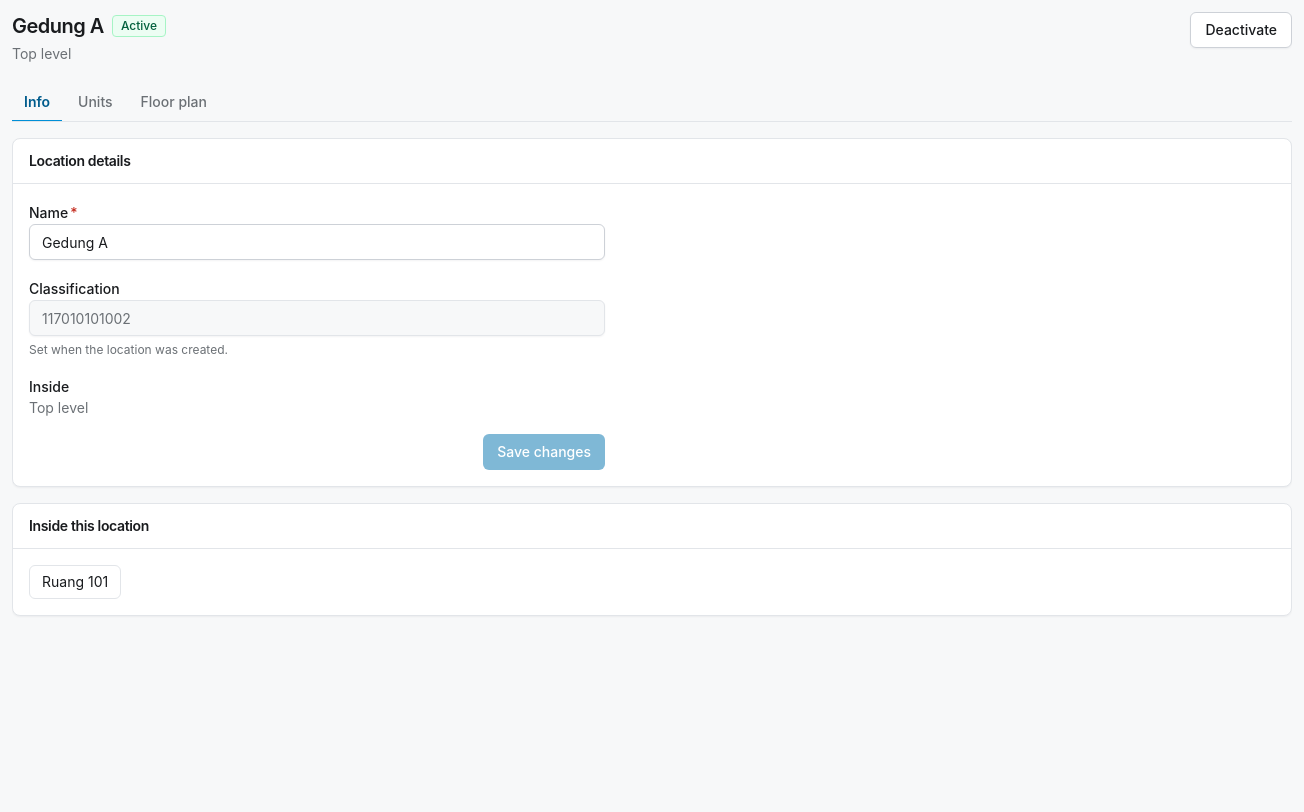
Test: LocationDetailPage › shows where each unit actually is, and marks it as inside rather than here
This screenshot has width=1304, height=812.
Click the tab "Units".
click(95, 103)  # box [66, 84, 125, 122]
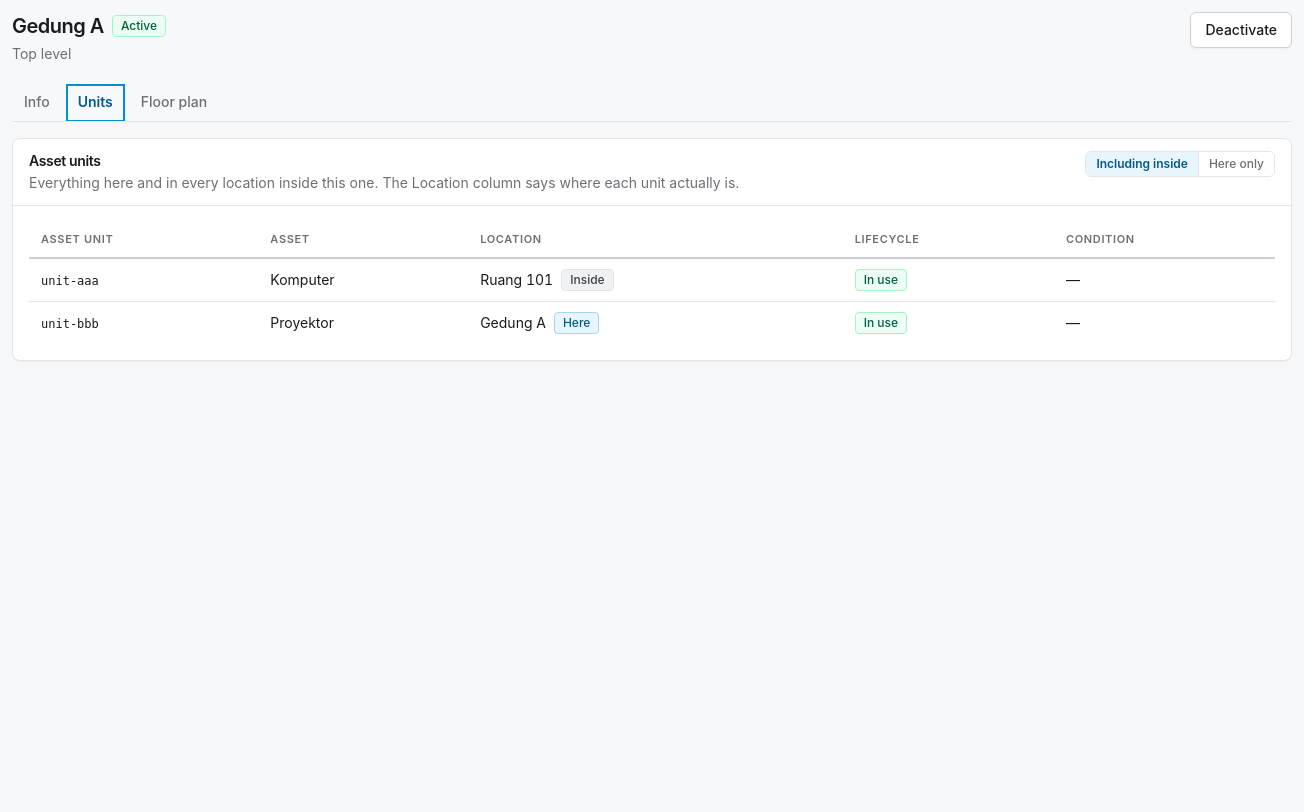
Expected: the link "Ruang 101" is shown, [480, 270, 553, 290]
Expected: the text "Inside" is shown, [561, 269, 614, 291]
Expected: the text "Here" is shown, [554, 312, 599, 334]
